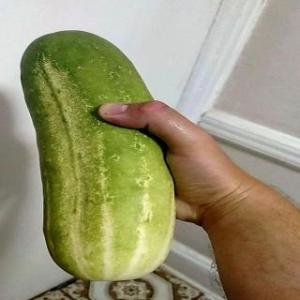cucumber: (16, 26, 180, 280)
